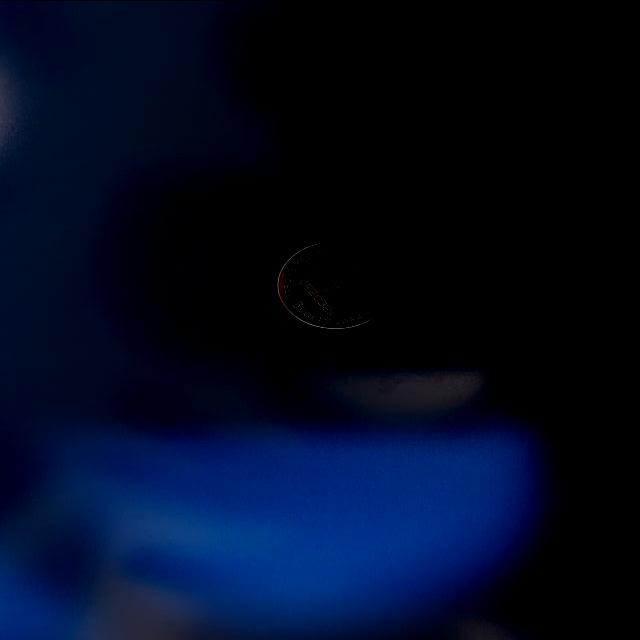COIN: (275, 240, 398, 330)
